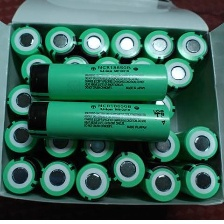battery: (24, 99, 174, 146), (26, 61, 169, 104), (154, 123, 221, 167), (161, 159, 222, 204), (155, 56, 197, 109), (105, 146, 150, 195), (137, 159, 182, 206), (7, 23, 52, 69), (1, 115, 46, 160), (1, 153, 49, 195), (36, 156, 82, 198), (40, 23, 79, 69), (73, 160, 114, 203), (16, 51, 56, 93), (173, 28, 212, 69), (74, 24, 112, 66), (106, 26, 145, 66), (76, 129, 119, 165), (141, 26, 175, 70), (55, 52, 91, 90), (40, 123, 79, 158), (3, 82, 41, 117), (126, 53, 158, 90), (92, 54, 125, 88)
